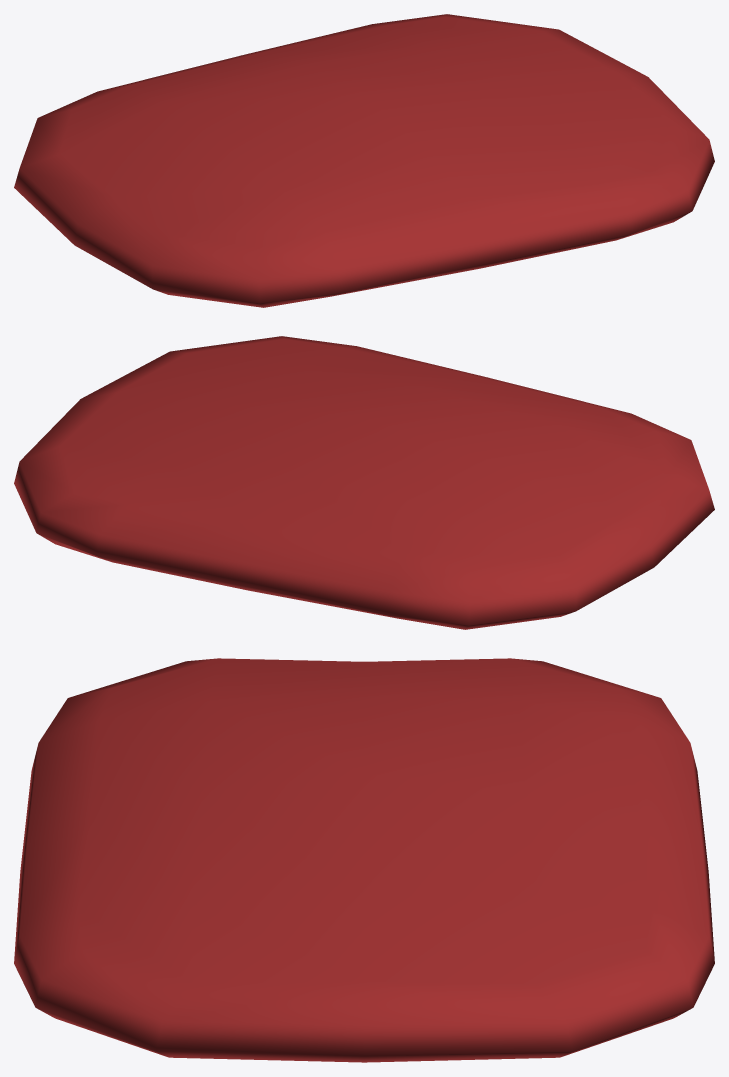
File: Dust_half.fbx
3 renders of one model, top to bottom at view 1: azimuth 30°, elevation 25°; view 2: azimuth 150°, elevation 25°; view 3: azimuth 270°, elevation 25°, orthographic. The views are drawn at different scales.
Visible parts, largest first — view 1: pCube227; view 2: pCube227; view 3: pCube227.
Boxes of the visible parts, left/top/right/bottom form: pCube227: left=14, top=14, right=714, bottom=307; pCube227: left=14, top=336, right=714, bottom=629; pCube227: left=14, top=658, right=714, bottom=1062.
Bounding box in the file's own units: 328 × 51.25 × 257.
